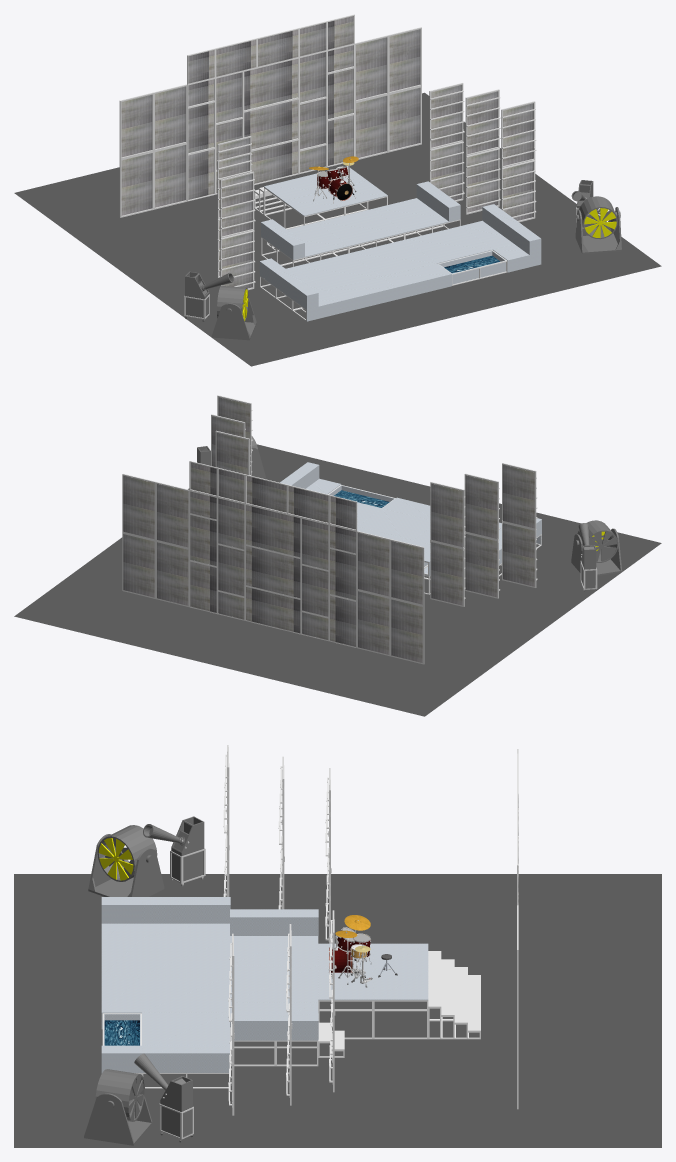
3 renders of one model, top to bottom at view 1: azimuth 30°, elevation 25°; view 2: azimuth 150°, elevation 25°; view 3: azimuth 270°, elevation 25°, orthographic. The views are drawn at different scales.
Parts seen in each view (by area): view 1: Untitled; view 2: Untitled; view 3: Untitled.
Boxes of the visible parts, box(x1,y1,x2,y2) form: Untitled: box(14, 14, 661, 366); Untitled: box(14, 395, 661, 716); Untitled: box(14, 745, 661, 1147).
Bounding box in the file's own units: 6.8 × 2.32 × 6.78.
37 materials, 11 textured.
